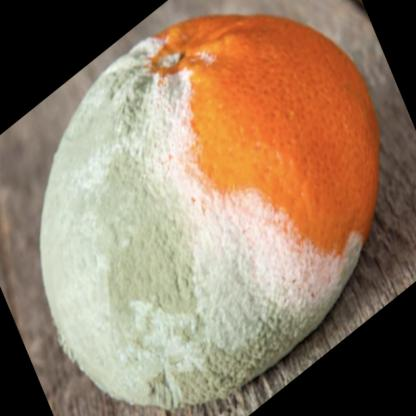rotten: (45, 13, 378, 410)
